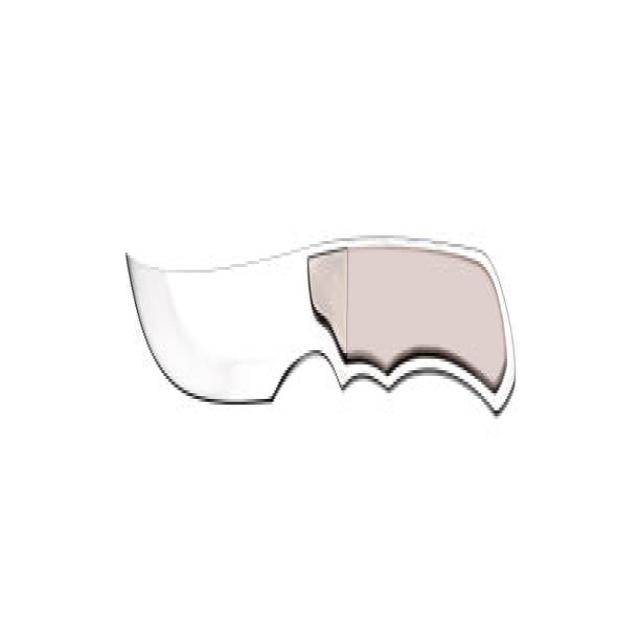knife: (120, 232, 521, 444)
